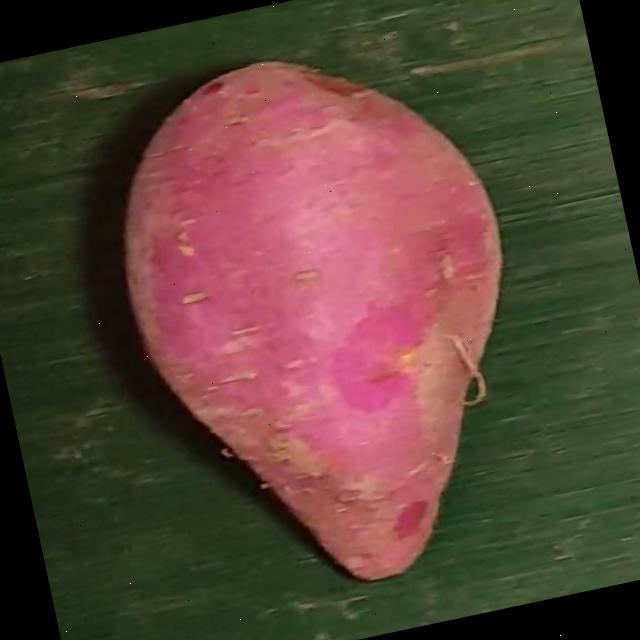Sweet Potato: (124, 59, 505, 578)
